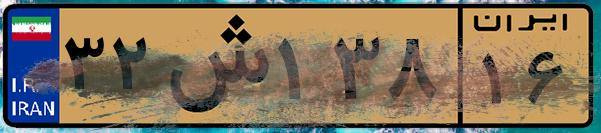1: (270, 28, 330, 110), (475, 38, 525, 113)
2: (110, 28, 158, 98)
3: (330, 28, 385, 110), (57, 26, 110, 100)
6: (525, 38, 570, 115)
8: (385, 28, 445, 110)
ش: (158, 12, 270, 120)
